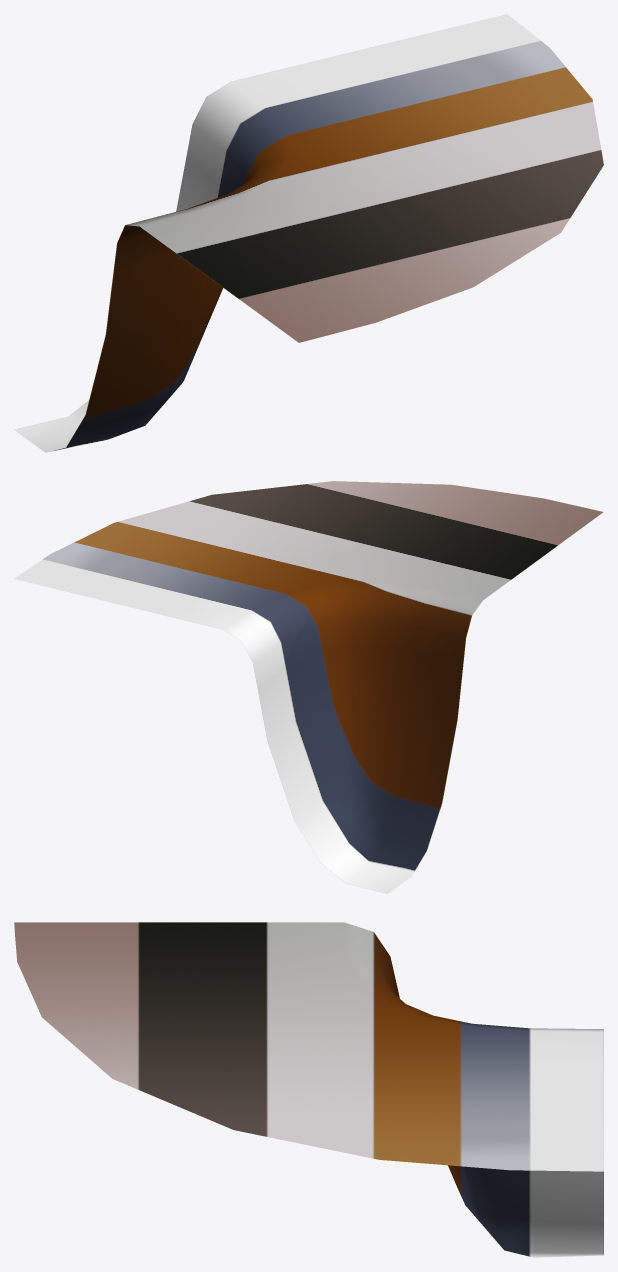
File: Terrain_valley_corner.fbx
3 views of the same model, one above another, from view 1: azimuth 30°, elevation 25°; view 2: azimuth 150°, elevation 25°; view 3: azimuth 270°, elevation 25° (orthographic). The views are drawn at different scales.
Visible parts, largest first — view 1: polySurface17; view 2: polySurface17; view 3: polySurface17.
Boxes of the visible parts, x1,y1,x2,y2 form: polySurface17: [14, 14, 603, 452]; polySurface17: [14, 481, 603, 893]; polySurface17: [14, 922, 603, 1257].
Bounding box in the file's own units: 8 × 4.57 × 8.
